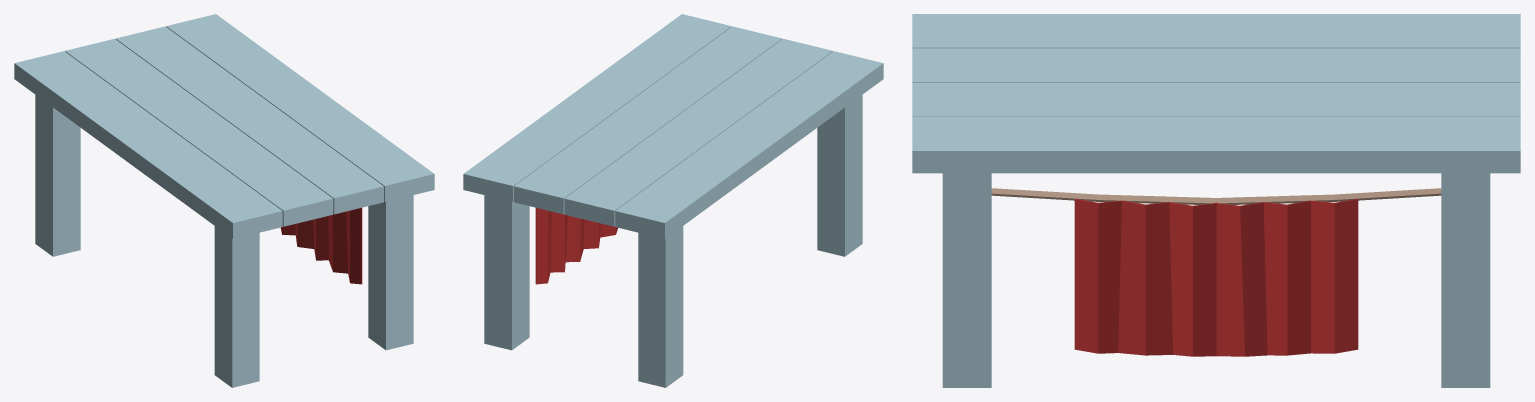
File: Table_5.fbx
3 views of the same model, side by side, from view 1: azimuth 30°, elevation 25°; view 2: azimuth 150°, elevation 25°; view 3: azimuth 270°, elevation 25° (orthographic). The views are drawn at different scales.
Visible parts, largest first — view 1: Table_5; view 2: Table_5; view 3: Table_5.
Boxes of the visible parts, x1=… form: Table_5: x1=14, y1=14, x2=434, y2=387; Table_5: x1=463, y1=14, x2=883, y2=387; Table_5: x1=912, y1=14, x2=1520, y2=387.
Bounding box in the file's own units: 112 × 210 × 93.05.
